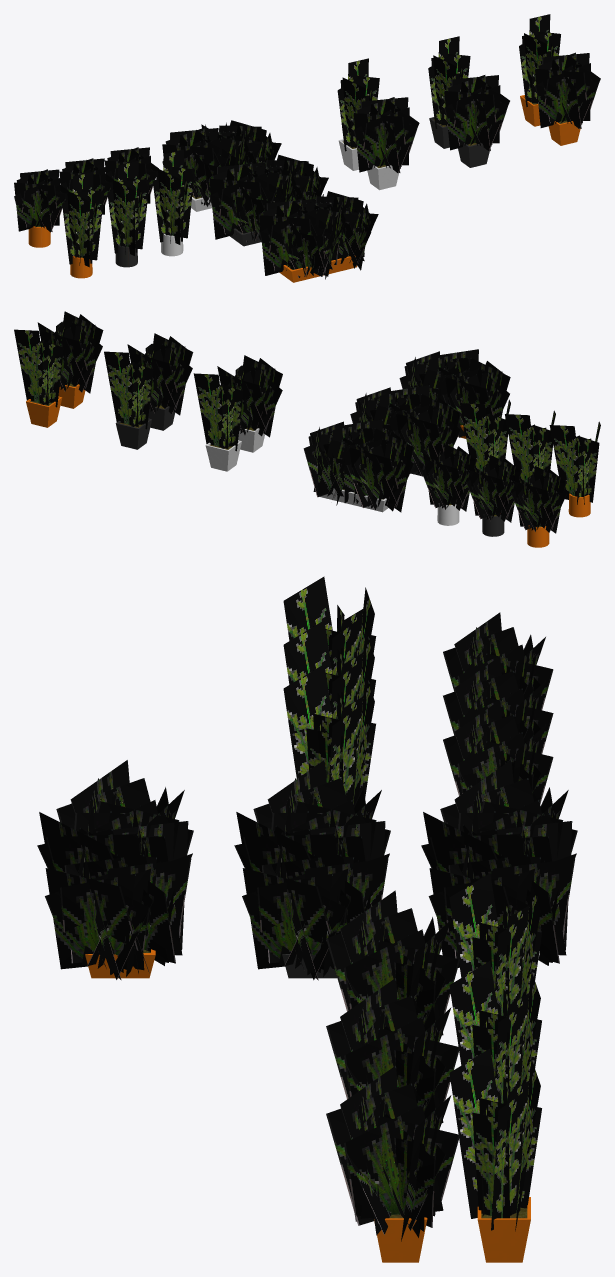
File: prop_macetas.glb
3 renders of one model, top to bottom at view 1: azimuth 30°, elevation 25°; view 2: azimuth 150°, elevation 25°; view 3: azimuth 270°, elevation 25°, orthographic. The views are drawn at different scales.
Visible parts, largest first — view 1: Pot_8, Pot_7, Pot_3, Pot_13, Pot_14, Pot_12, Pot_11, Pot_10, Pot_9, Pot_2, Pot_5, Pot_6 (+3 smaller); view 2: Pot_3, Pot_7, Pot_8, Pot_6, Pot_4, Pot_5, Pot_13, Pot_12, Pot_14, Pot_11, Pot_2, Pot (+3 smaller); view 3: Pot_8, Pot_7, Pot_3, Pot_14, Pot_6, Pot_13, Pot_12, Pot_9, Pot_4, Pot_5, Pot, Pot_2 (+3 smaller).
Boxes of the visible parts, x1,y1,x2,y2 form: Pot_8: [259, 191, 378, 282]; Pot_7: [209, 154, 328, 246]; Pot_3: [162, 120, 281, 211]; Pot_13: [444, 75, 509, 167]; Pot_14: [535, 52, 600, 145]; Pot_12: [353, 97, 419, 190]; Pot_11: [62, 172, 104, 278]; Pot_10: [107, 160, 149, 267]; Pot_9: [152, 149, 194, 256]; Pot_2: [14, 169, 68, 247]; Pot_5: [428, 36, 470, 148]; Pot_6: [519, 14, 560, 126]; Pot_3: [303, 419, 414, 512]; Pot_7: [350, 385, 461, 476]; Pot_8: [399, 349, 510, 438]; Pot_6: [14, 326, 65, 427]; Pot_4: [193, 370, 244, 471]; Pot_5: [104, 348, 154, 449]; Pot_13: [127, 333, 193, 430]; Pot_12: [217, 355, 282, 452]; Pot_14: [37, 311, 103, 408]; Pot_11: [549, 421, 600, 517]; Pot_2: [511, 466, 566, 547]; Pot: [421, 444, 476, 525]; Pot_8: [37, 760, 193, 980]; Pot_7: [234, 759, 390, 980]; Pot_3: [421, 760, 577, 967]; Pot_14: [326, 1066, 459, 1262]; Pot_6: [449, 1048, 541, 1262]; Pot_13: [326, 978, 459, 1122]; Pot_12: [326, 890, 459, 1035]; Pot_9: [283, 664, 375, 806]; Pot_4: [449, 873, 541, 1015]; Pot_5: [449, 961, 541, 1103]; Pot: [443, 700, 553, 804]; Pot_2: [443, 612, 553, 710].
Size of the model in its own units: 12.24 by 2.07 by 5.21.
Materials: 1 (1 with a texture image).
